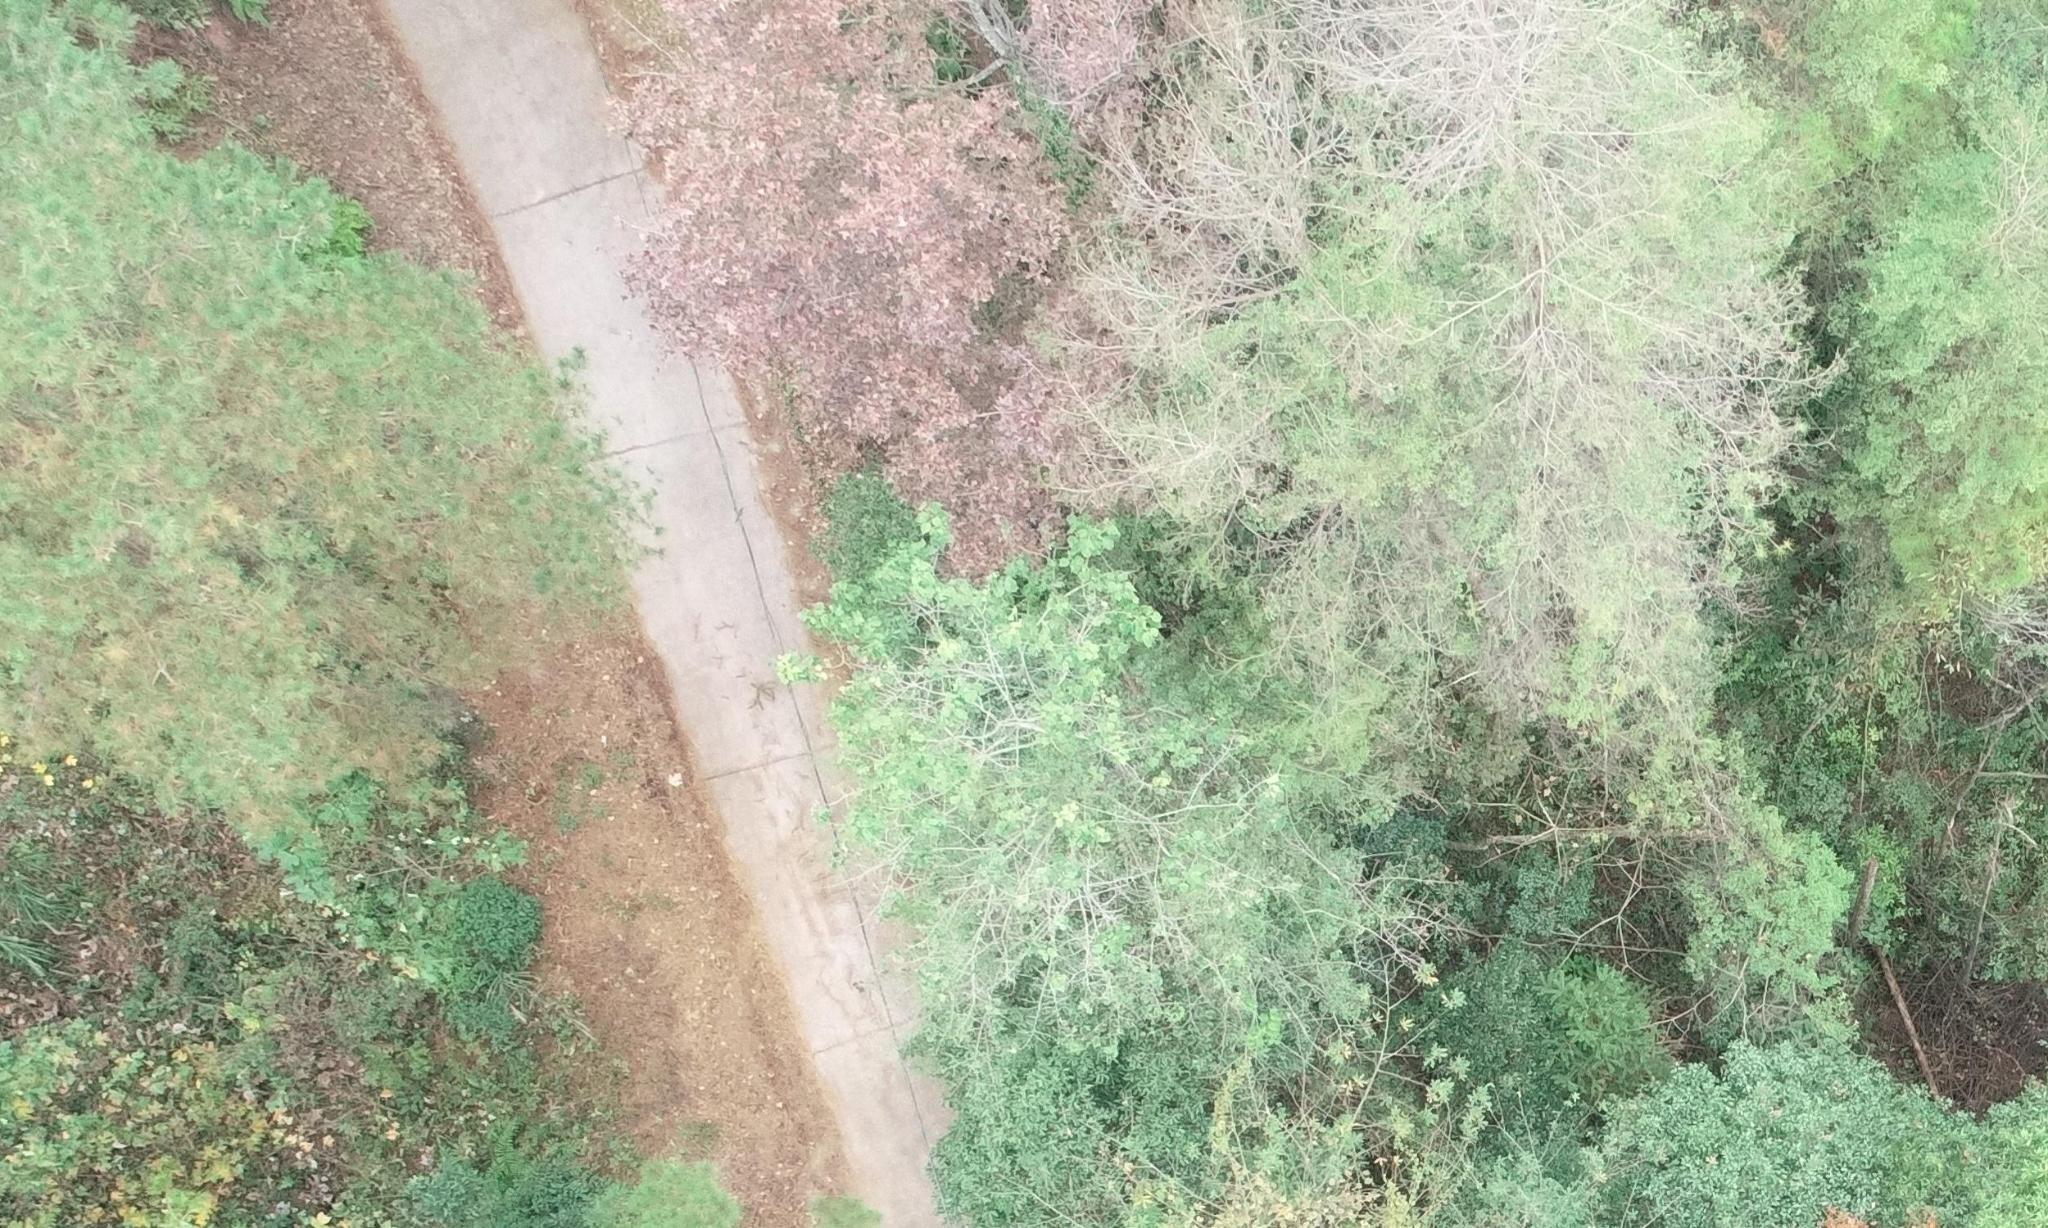dead: (1348, 12, 1826, 754)
heavy: (589, 10, 1311, 583)
light: (1, 197, 531, 857)
